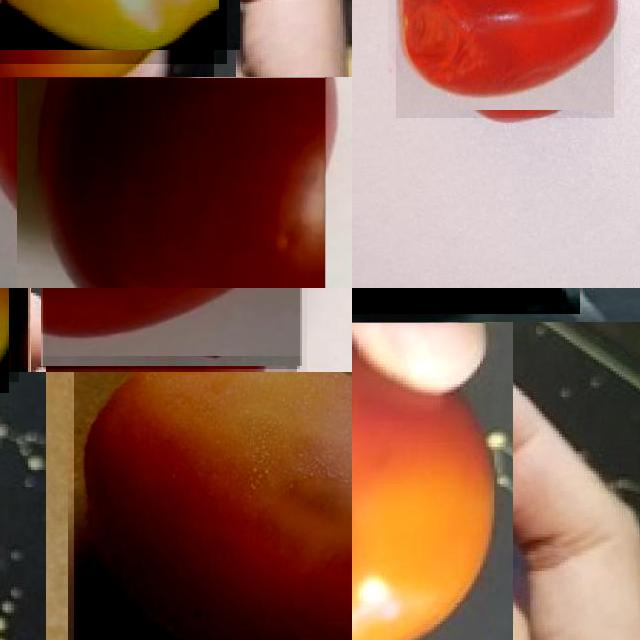0: (0, 77, 325, 288), (352, 322, 513, 640)
1: (396, 0, 613, 118), (0, 0, 227, 63)
Fresh Tomato: (73, 372, 352, 640), (43, 288, 299, 369)
